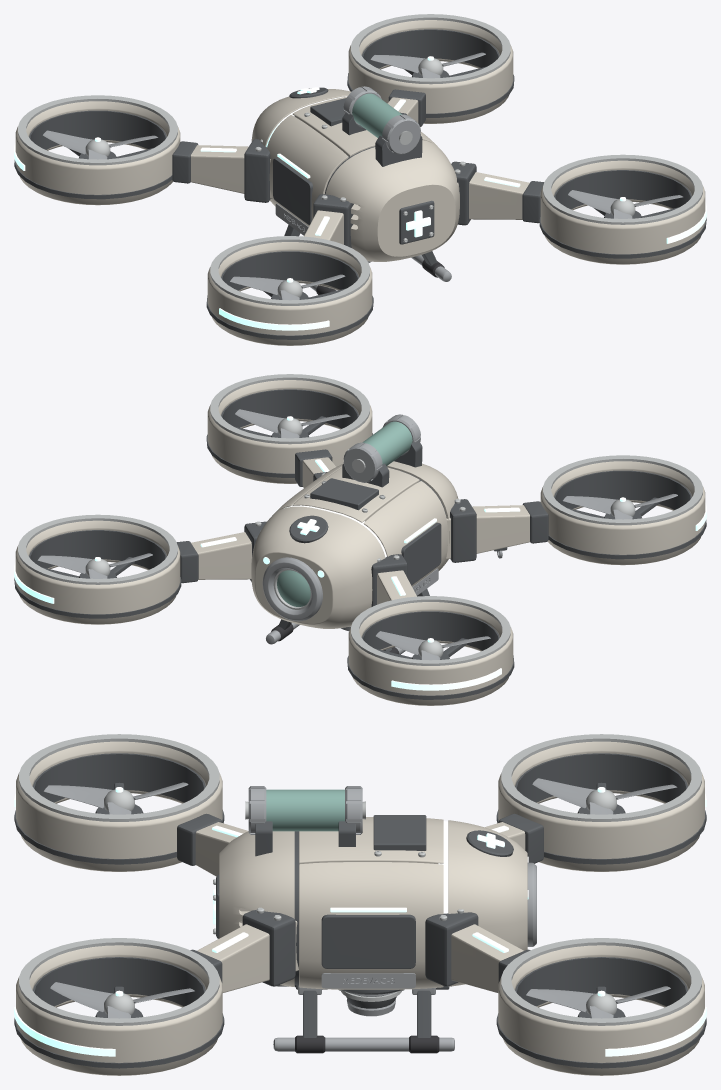
The model's file is drone.glb.
3 renders of one model, top to bottom at view 1: azimuth 30°, elevation 25°; view 2: azimuth 150°, elevation 25°; view 3: azimuth 270°, elevation 25°, orthographic. The views are drawn at different scales.
Visible parts, largest first — view 1: body_shell, body_dark, body_edge, body_accent, body_steel, body_glass, rotor-0_steel, rotor-2_steel, rotor-1_steel, rotor-3_steel; view 2: body_shell, body_dark, body_edge, body_steel, body_accent, body_glass, rotor-2_steel, rotor-0_steel, rotor-3_steel, rotor-1_steel; view 3: body_shell, body_dark, body_edge, body_steel, body_accent, body_glass, rotor-2_steel, rotor-0_steel, rotor-3_steel, rotor-1_steel, body_rubber.
Part boxes in pixels (left/top/right/bottom): body_shell: left=15, top=20, right=705, bottom=345; body_dark: left=14, top=29, right=706, bottom=339; body_edge: left=18, top=14, right=702, bottom=305; body_accent: left=14, top=87, right=706, bottom=330; body_steel: left=275, top=86, right=451, bottom=291; body_glass: left=352, top=93, right=401, bottom=137; rotor-0_steel: left=43, top=130, right=158, bottom=159; rotor-2_steel: left=568, top=190, right=682, bottom=218; rotor-1_steel: left=370, top=52, right=485, bottom=78; rotor-3_steel: left=230, top=274, right=345, bottom=300; body_shell: left=15, top=380, right=705, bottom=705; body_dark: left=14, top=389, right=706, bottom=699; body_edge: left=18, top=374, right=702, bottom=665; body_steel: left=262, top=414, right=502, bottom=654; body_accent: left=14, top=459, right=706, bottom=690; body_glass: left=277, top=421, right=412, bottom=606; rotor-2_steel: left=235, top=409, right=350, bottom=438; rotor-0_steel: left=376, top=631, right=490, bottom=660; rotor-3_steel: left=563, top=494, right=677, bottom=519; rotor-1_steel: left=37, top=553, right=152, bottom=578; body_shell: left=16, top=741, right=704, bottom=1075; body_dark: left=14, top=753, right=706, bottom=1068; body_edge: left=19, top=734, right=701, bottom=1025; body_steel: left=248, top=786, right=536, bottom=1051; body_accent: left=14, top=793, right=706, bottom=1056; body_glass: left=266, top=789, right=344, bottom=831; rotor-2_steel: left=50, top=982, right=194, bottom=1018; rotor-0_steel: left=532, top=778, right=677, bottom=814; rotor-3_steel: left=43, top=782, right=188, bottom=814; rotor-1_steel: left=526, top=986, right=670, bottom=1018; body_rubber: left=295, top=985, right=439, bottom=1053.
Size of the model in its own units: 0.6323 by 0.2333 by 0.6323.
